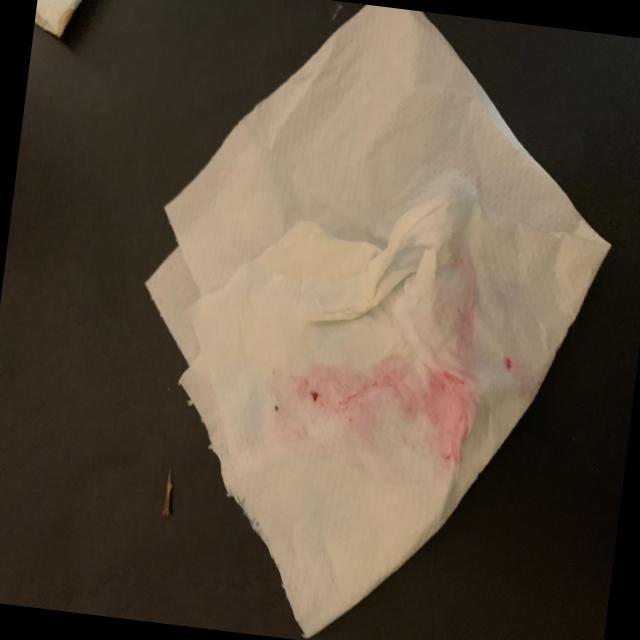organic waste: (101, 0, 638, 640)
